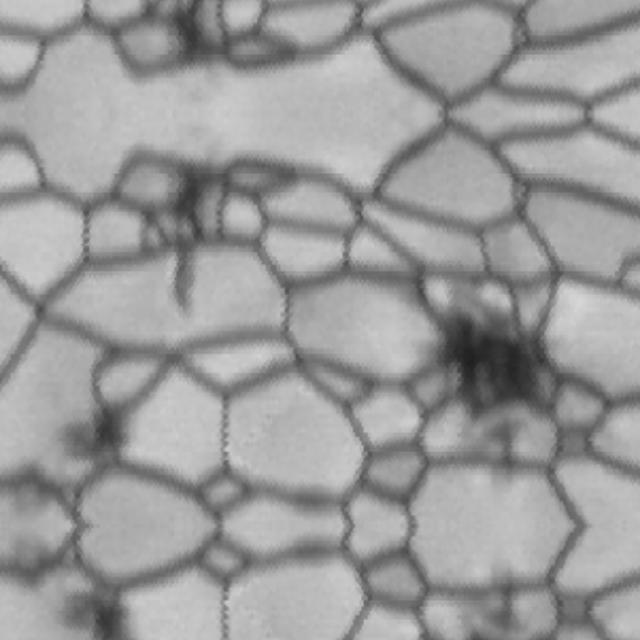good_void: (430, 280, 564, 423), (150, 172, 218, 314), (57, 363, 136, 470), (57, 581, 136, 640), (151, 0, 218, 54), (484, 416, 531, 474), (484, 577, 531, 635)
